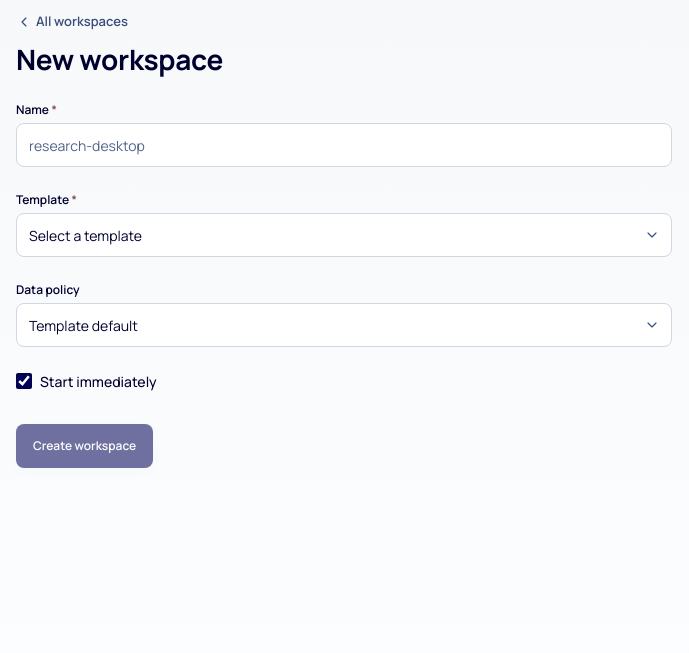
Test: CreateWorkspacePage › create: QUOTA_EXHAUSTED shows its own guidance
Type "my-box" into the field labelled "Name *".
click(344, 145); type("my-box")  # box [16, 123, 672, 167]
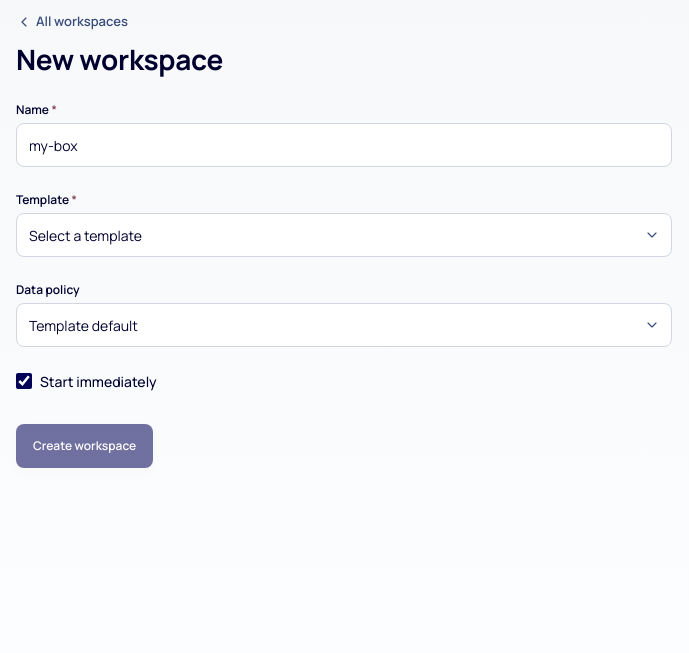
Select "linux-firefox-desktop (rev 7, Linux container)" in the dropdown labelled "Template *" at {"x": 344, "y": 235}, box [16, 213, 672, 257]
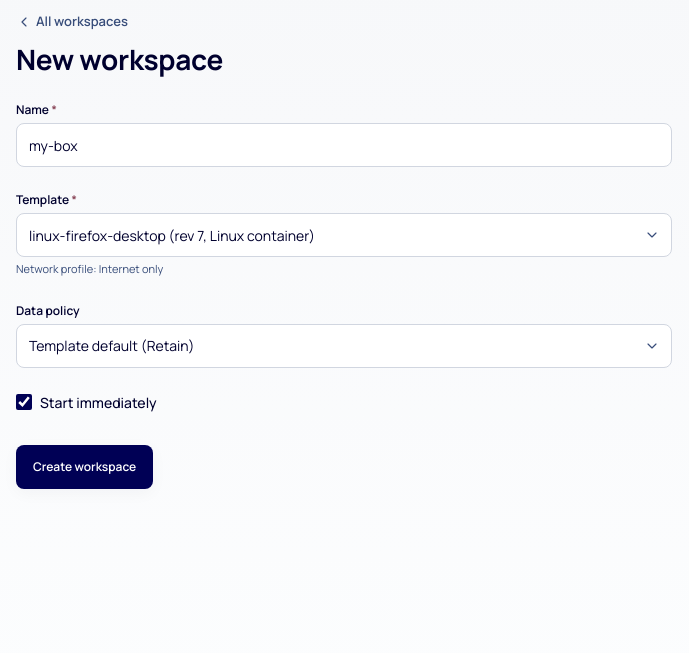
Click the button "Create workspace".
click(85, 466)  # box [16, 444, 153, 488]
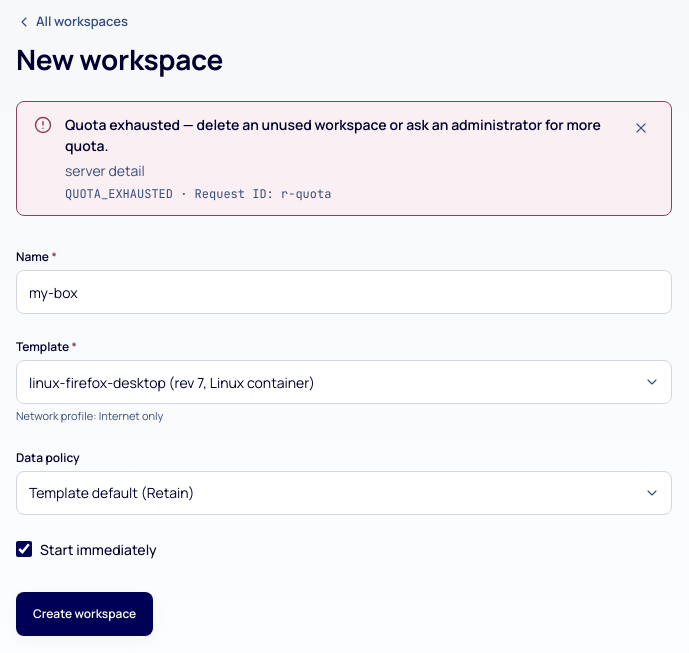
Expected: the message shows "QUOTA_EXHAUSTED", [65, 186, 331, 202]
Expected: the message shows "Quota exhausted — delete an unused workspace or ask an administrator for more quota.", [65, 115, 601, 155]
